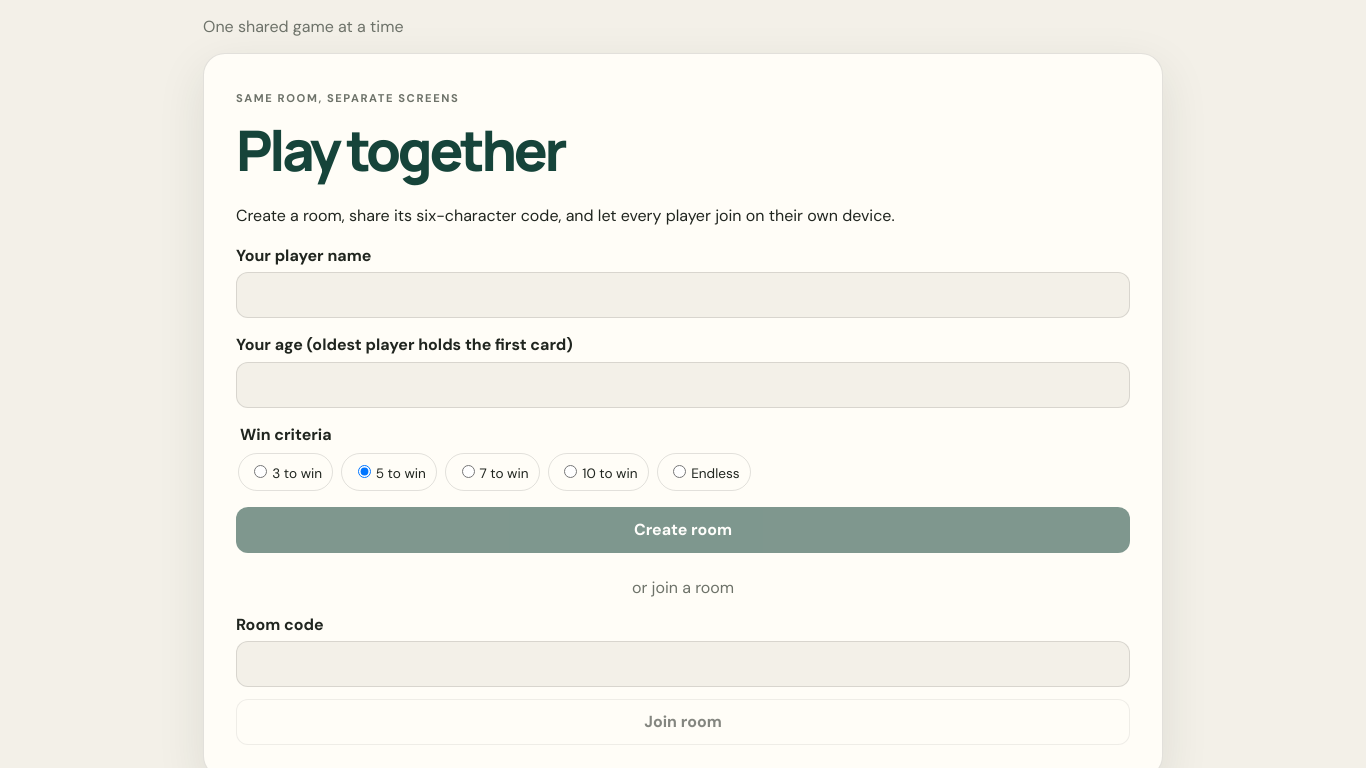
Test case: creates a room and exposes its join code
Type "Ada" into the field labelled "Your player name" at point(683, 295), box [236,272,1130,318]
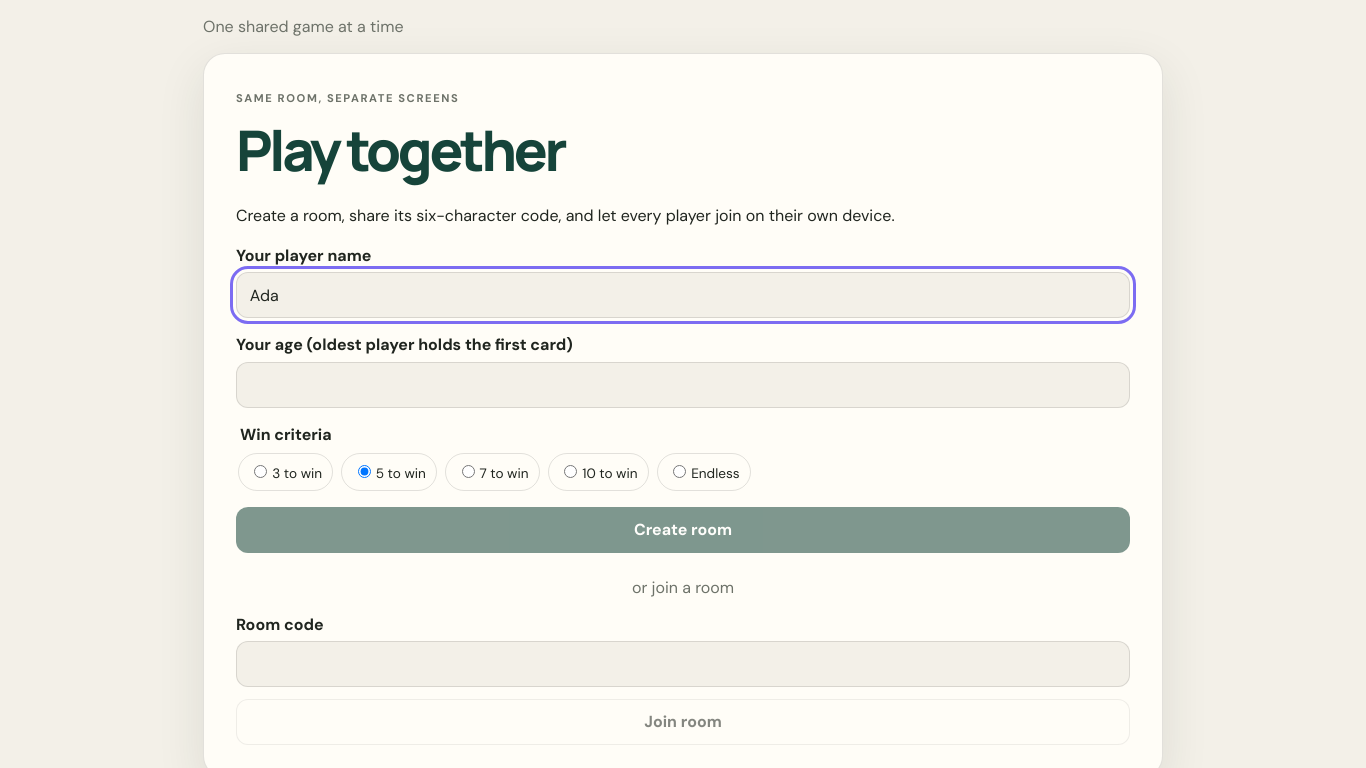
Type "40" into the number field labelled "Your age (oldest player holds the first card)" at point(683, 385), box [236,362,1130,408]
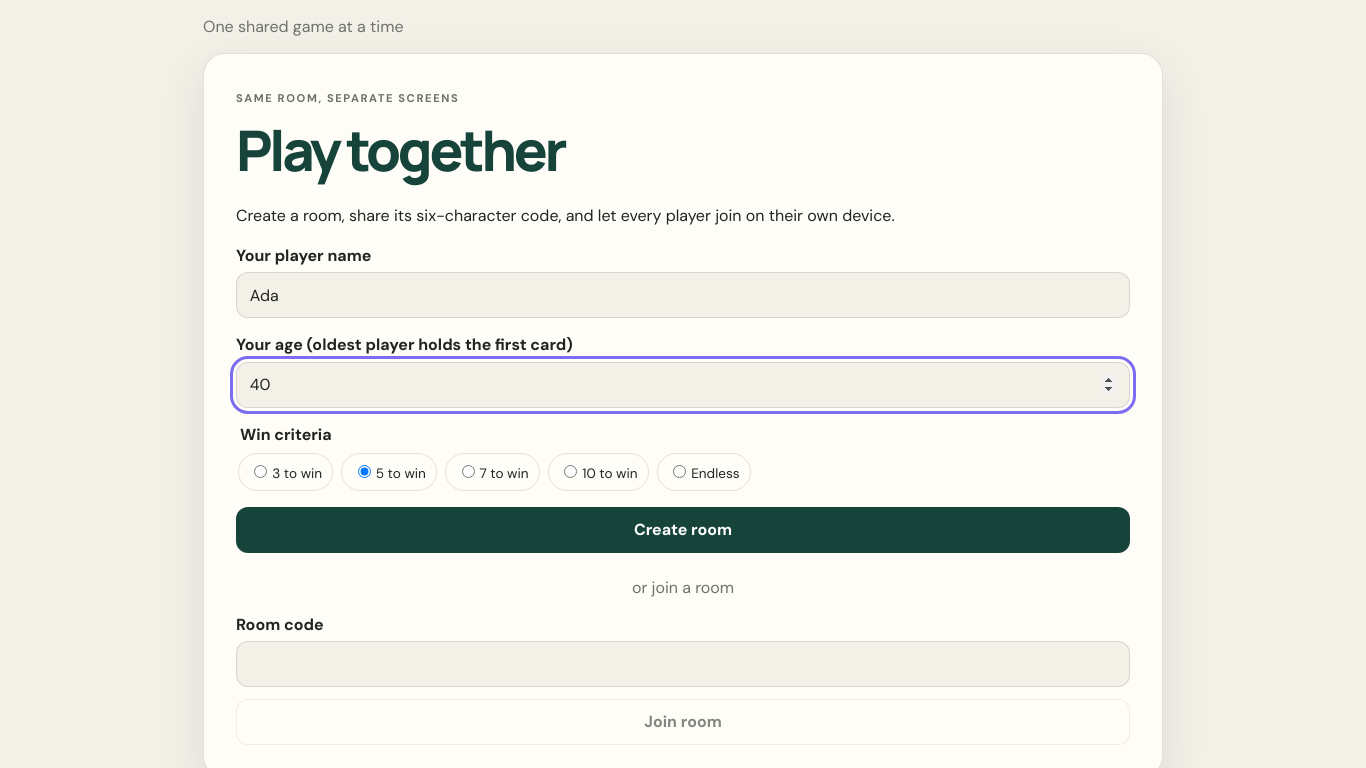
Click the button "Create room" at point(683, 530), box [236,507,1130,553]
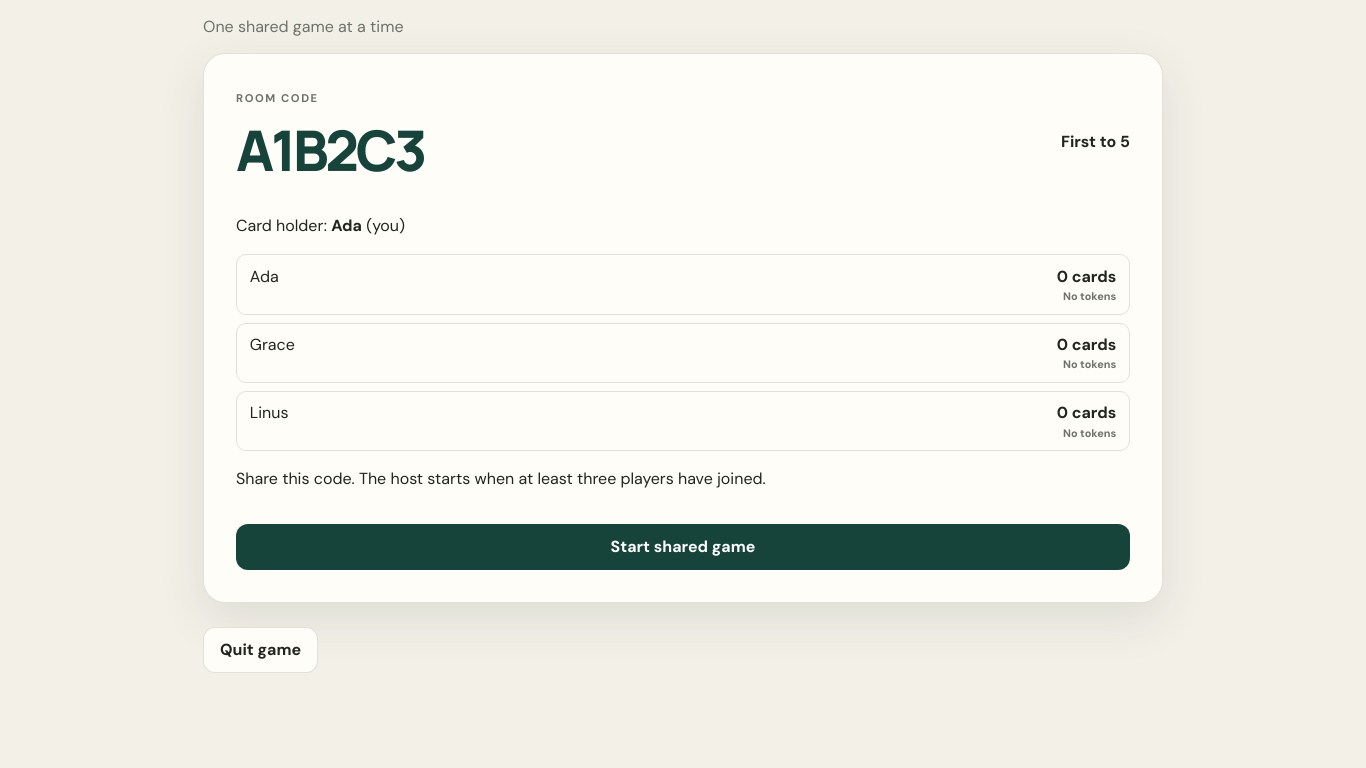
Result: the button "Start shared game" is enabled at [236,524,1130,570]
Result: the heading "A1B2C3" is shown at [236,111,424,188]
Result: the text "Card holder: Ada (you)" is shown at [236,215,405,236]
